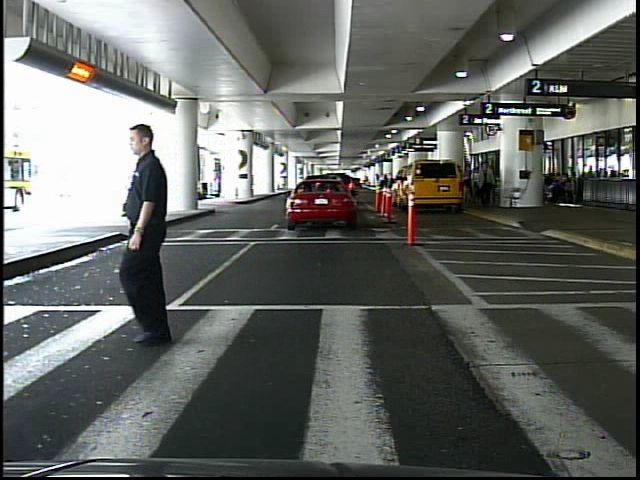person: (99, 125, 209, 351), (478, 163, 495, 208)
